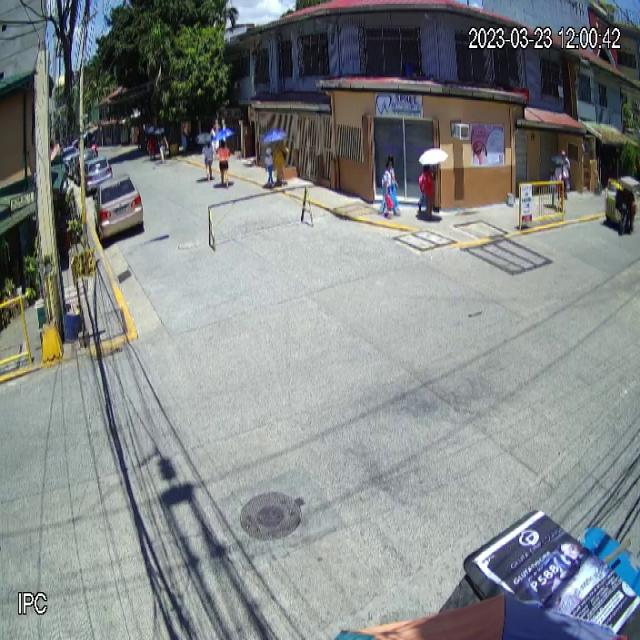Tricycle: (603, 166, 639, 243)
